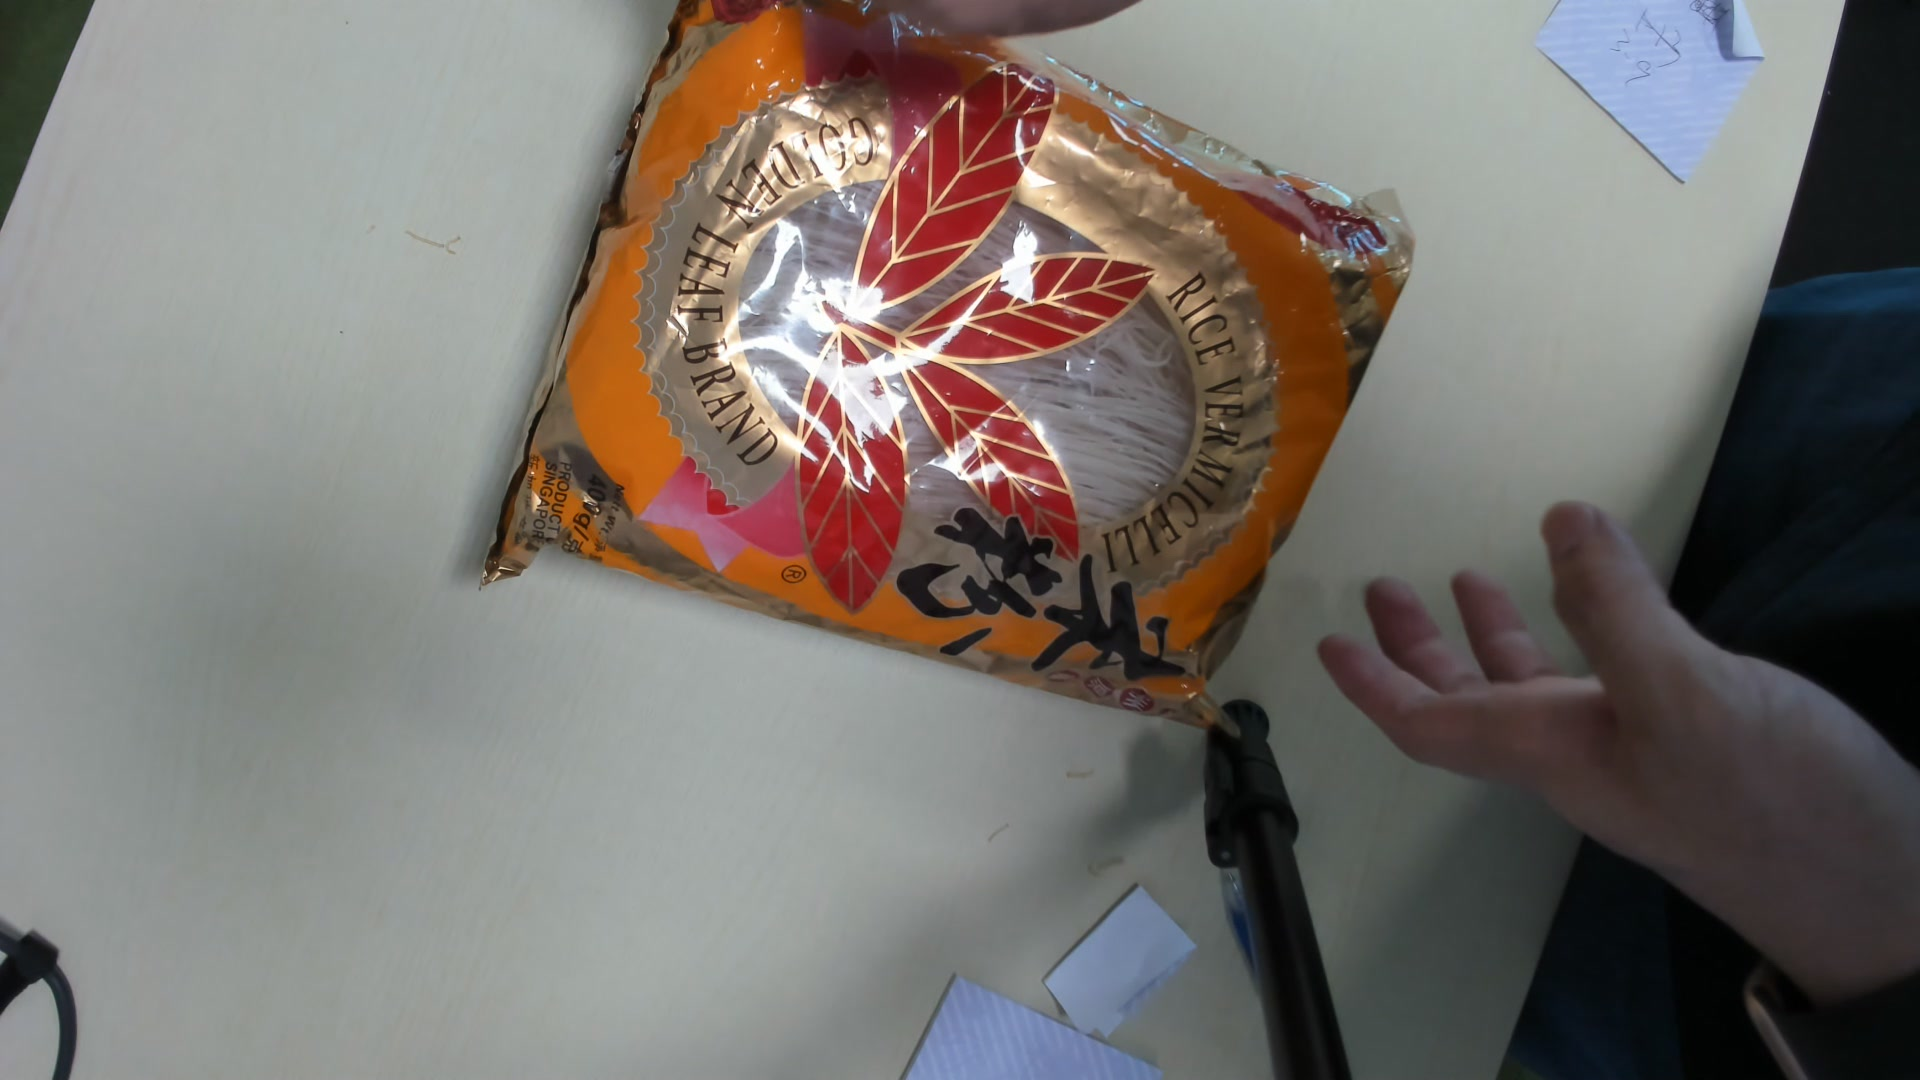OtherNoodles_400-499g_Halal_NonHealthy: (451, 1, 1423, 756)
